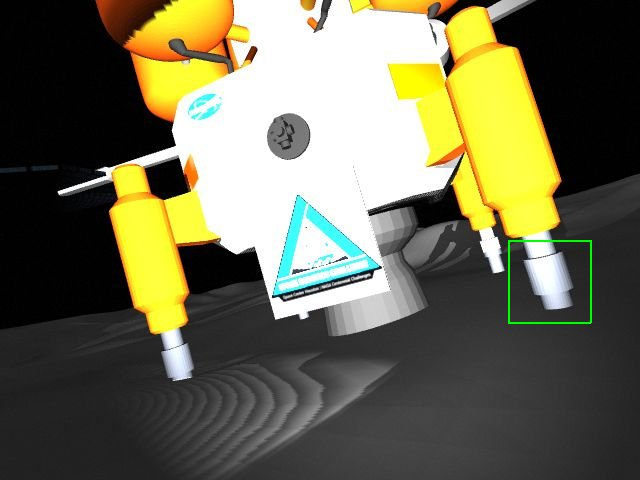basemarker: (272, 194, 382, 303)
